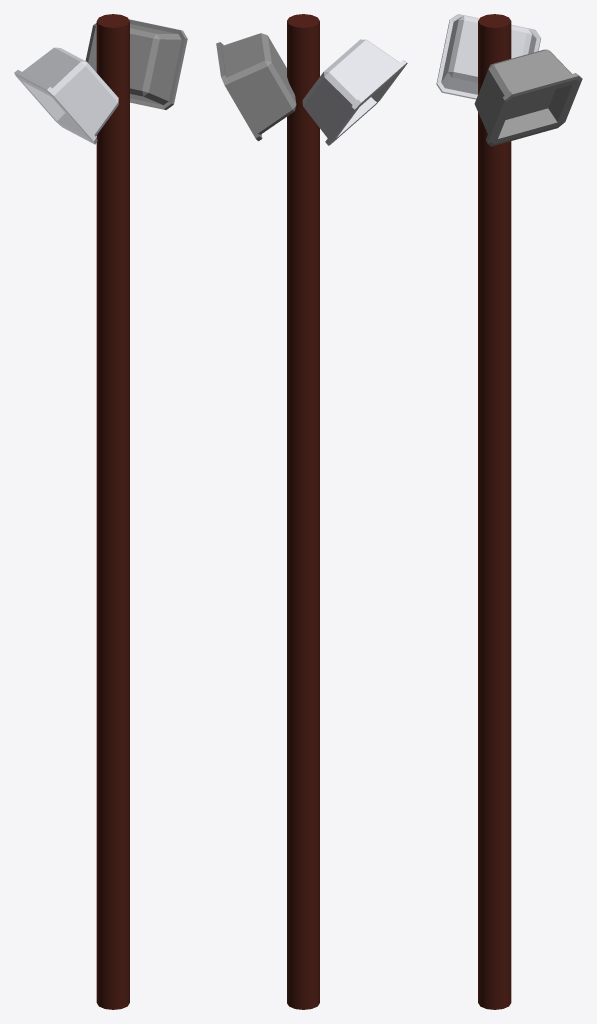
The model's file is SM_soundboxes_outside.fbx.
3 views of the same model, side by side, from view 1: azimuth 30°, elevation 25°; view 2: azimuth 150°, elevation 25°; view 3: azimuth 270°, elevation 25° (orthographic).
Parts seen in each view (by area): view 1: soundboxes_outside; view 2: soundboxes_outside; view 3: soundboxes_outside.
Boxes of the visible parts, x1,y1,x2,y2 form: soundboxes_outside: [14, 14, 187, 1009]; soundboxes_outside: [216, 14, 407, 1009]; soundboxes_outside: [436, 14, 582, 1009].
Size of the model in its own units: 60.65 by 346 by 46.77.
